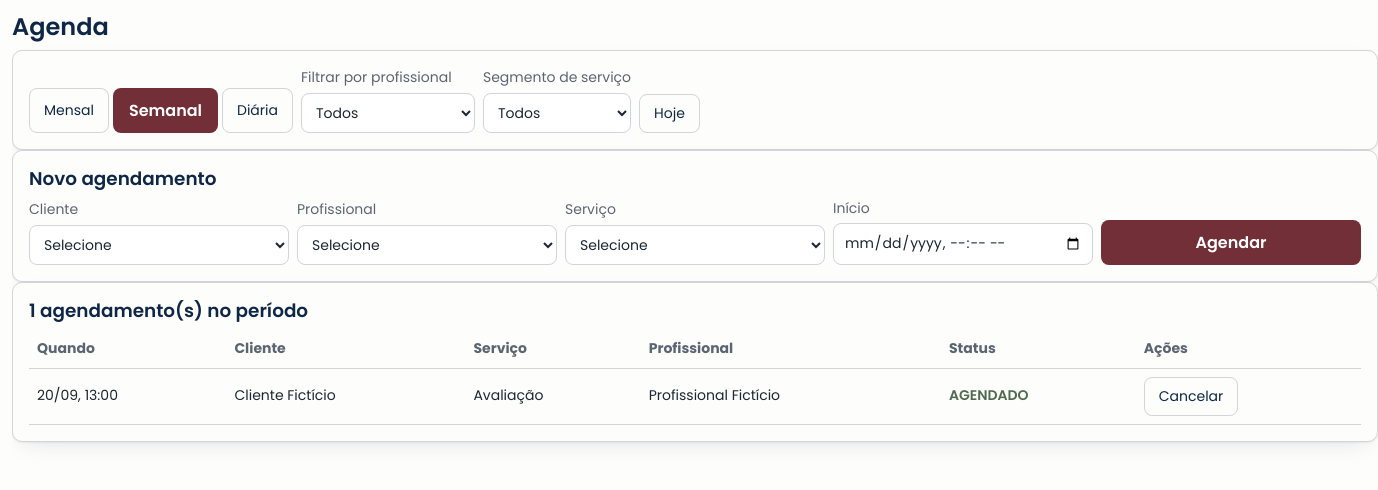
Scenario: F-15 — cancelar pede o motivo num formulário acessível › o motivo é um campo rotulado, e não window.prompt
The width and height of the screenshot is (1378, 490).
Click the button "Cancelar": {"x": 1191, "y": 396} [1144,377,1238,416]
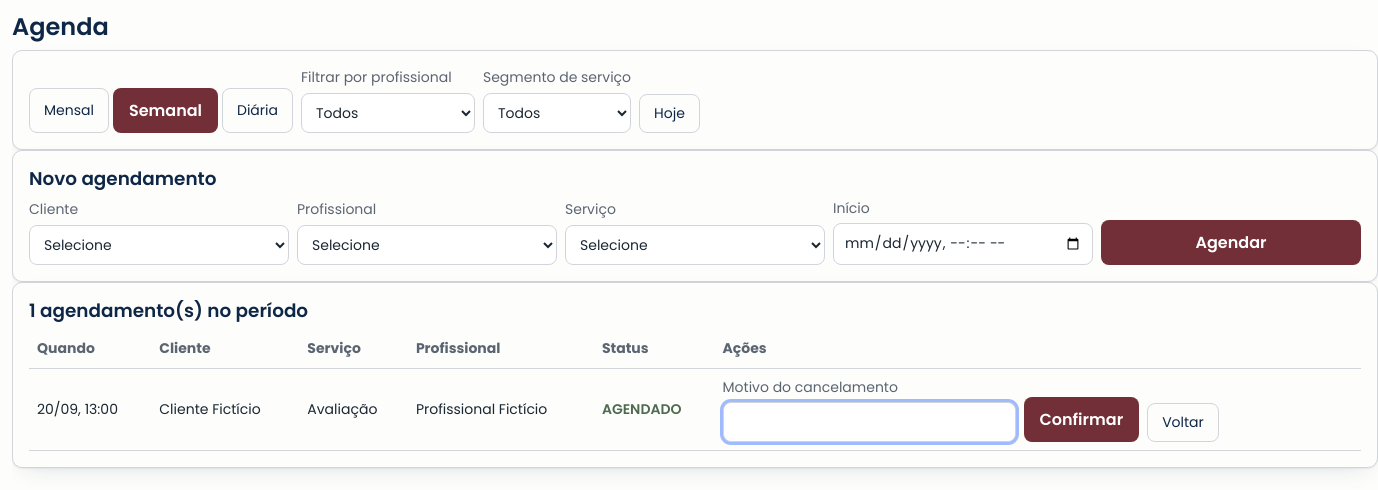
In the field labelled "Motivo do cancelamento": {"x": 869, "y": 422} [722,402,1016,442], type "Cliente fictício remarcou"
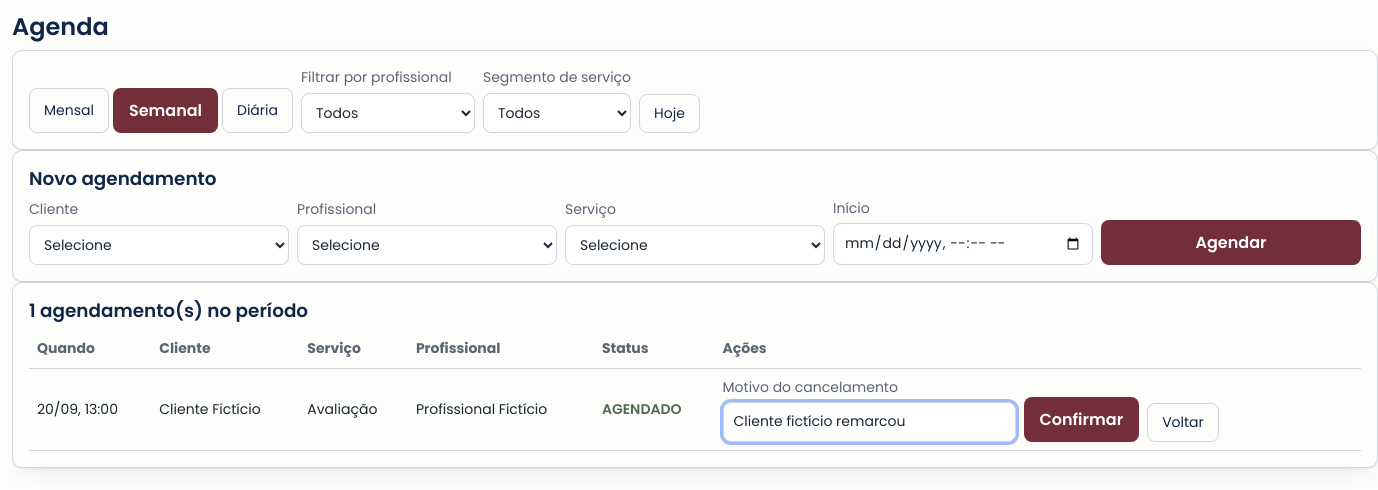
Click the button "Confirmar": {"x": 1081, "y": 420} [1024,397,1139,442]
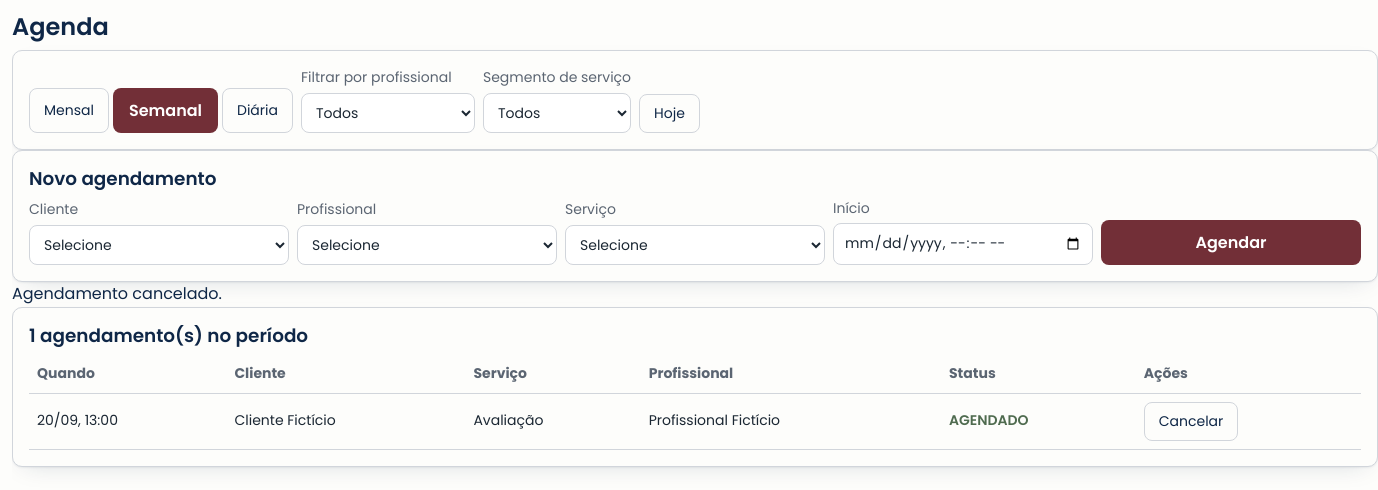
Expected: the text "Agendamento cancelado." is shown, [12,282,222,305]
